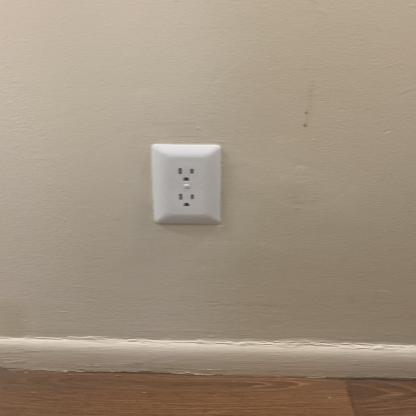OUTLET: (149, 142, 223, 227)
